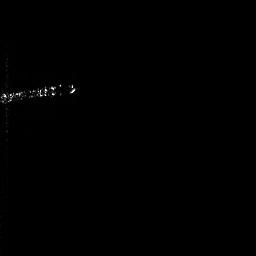ship: (1, 52, 79, 143)
